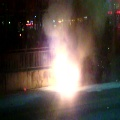fire: (50, 49, 79, 97)
